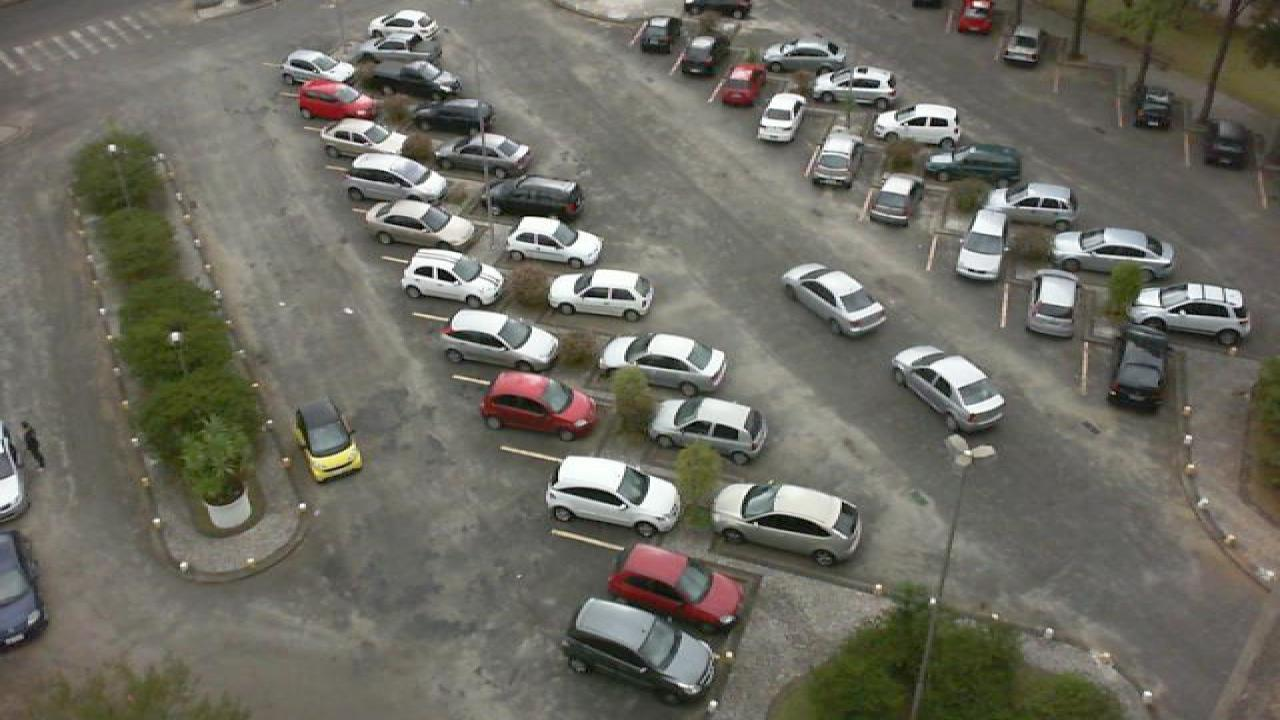Car: (556, 596, 722, 704), (708, 479, 866, 567), (606, 544, 746, 632), (540, 456, 686, 540), (890, 344, 1010, 436), (478, 369, 602, 441), (594, 333, 730, 397), (780, 261, 890, 340), (648, 396, 770, 465), (1128, 282, 1254, 346), (438, 308, 560, 373), (1050, 226, 1176, 280), (398, 248, 506, 310), (290, 397, 366, 484), (364, 199, 478, 252), (546, 268, 656, 322), (342, 152, 448, 208), (0, 531, 48, 654), (1106, 321, 1170, 413), (504, 214, 604, 269), (982, 181, 1080, 233), (482, 175, 588, 221), (434, 132, 534, 180), (920, 140, 1022, 184), (318, 116, 412, 162), (1024, 269, 1084, 340), (872, 101, 966, 144), (956, 208, 1012, 280), (366, 59, 464, 100), (402, 97, 496, 137), (294, 80, 378, 121), (760, 35, 848, 74), (808, 66, 900, 103), (278, 49, 360, 89), (352, 34, 440, 71), (0, 422, 30, 524), (806, 134, 856, 190), (864, 174, 912, 228), (754, 91, 802, 145), (366, 8, 442, 42), (1202, 118, 1252, 169), (712, 62, 766, 109), (674, 34, 726, 78), (1132, 82, 1174, 130), (634, 15, 684, 55), (1000, 27, 1044, 70), (954, 0, 994, 34)
